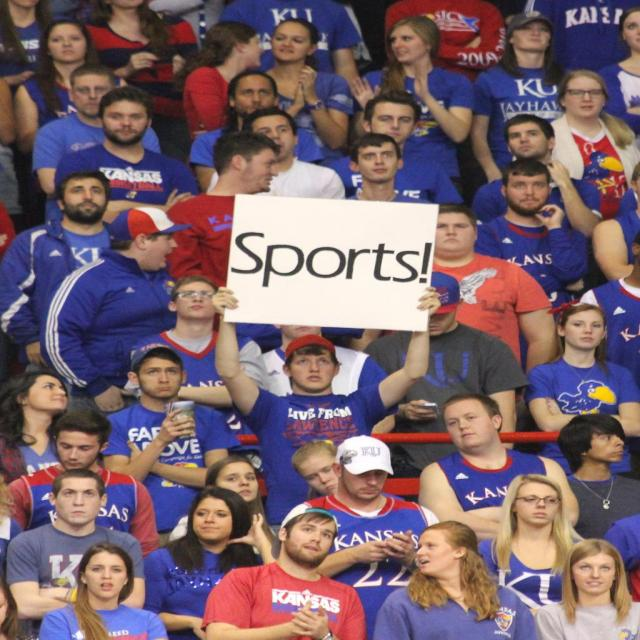nomask: (286, 517, 334, 562), (444, 408, 491, 448), (342, 460, 386, 500), (56, 484, 99, 524), (298, 458, 340, 498), (292, 350, 334, 389), (140, 358, 180, 398), (430, 217, 474, 253), (372, 106, 413, 144), (214, 468, 256, 504), (103, 106, 146, 141), (58, 436, 98, 473), (411, 301, 453, 336), (66, 182, 106, 218), (253, 121, 292, 157), (517, 490, 558, 524), (507, 176, 548, 210), (194, 501, 231, 538), (417, 536, 453, 574), (73, 78, 111, 114), (88, 558, 122, 598), (574, 558, 614, 592), (242, 154, 277, 192), (587, 427, 623, 463), (236, 82, 273, 117), (146, 226, 176, 268), (28, 378, 67, 410), (508, 126, 548, 156), (177, 286, 215, 317), (566, 315, 600, 349), (359, 148, 395, 180), (567, 83, 601, 116), (272, 26, 306, 59), (50, 29, 85, 61), (391, 30, 423, 61), (280, 312, 318, 338), (516, 20, 548, 50), (236, 36, 263, 67), (624, 18, 640, 48), (0, 592, 8, 623)
